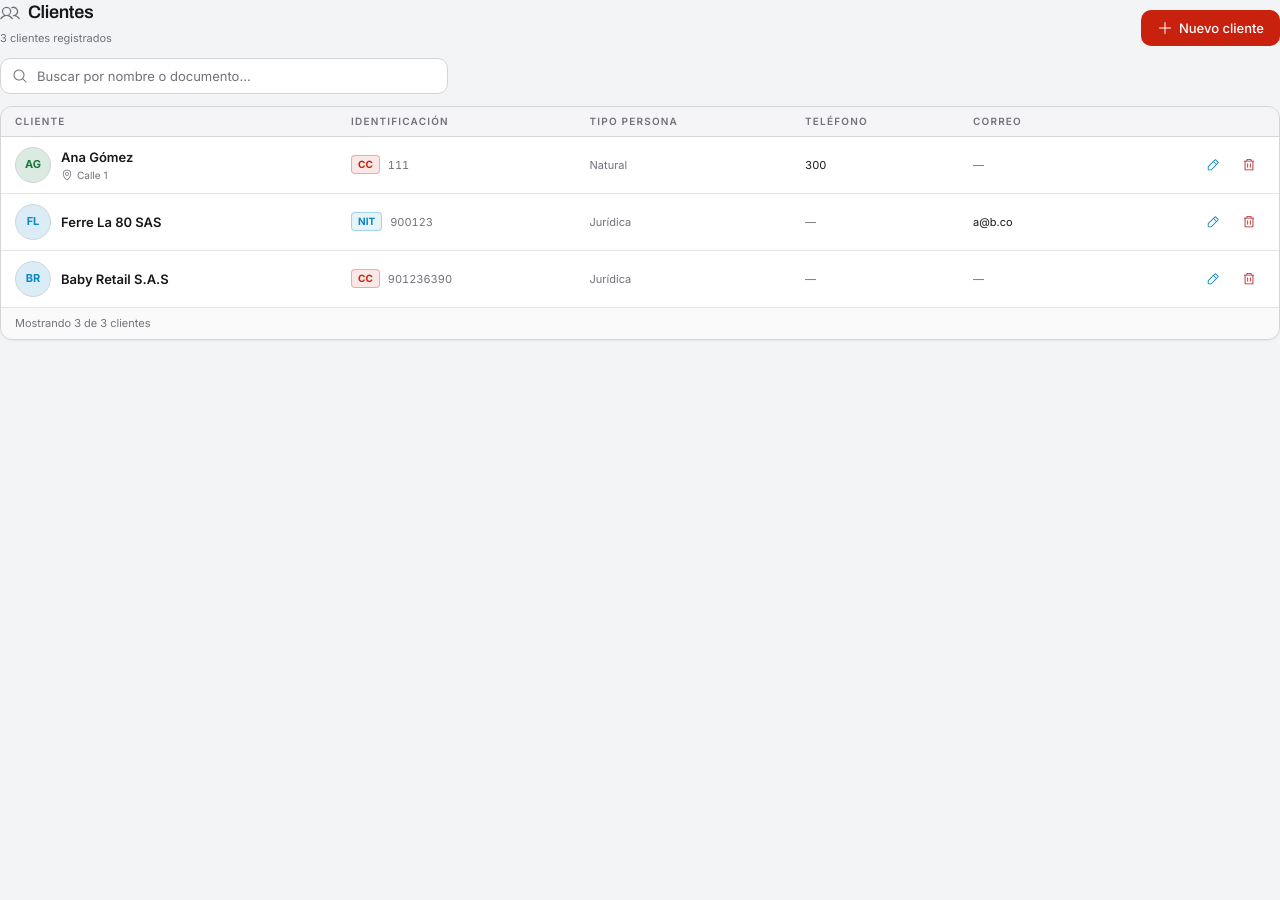
it: TabClientes — modal de alta/edición › sin la feature fiscal no hay ciudad ni régimen
Expected: the text "Ana Gómez" is shown, [61,148,133,167]
Click the button "Nuevo cliente" at (1210, 28), box [1141,10,1279,46]
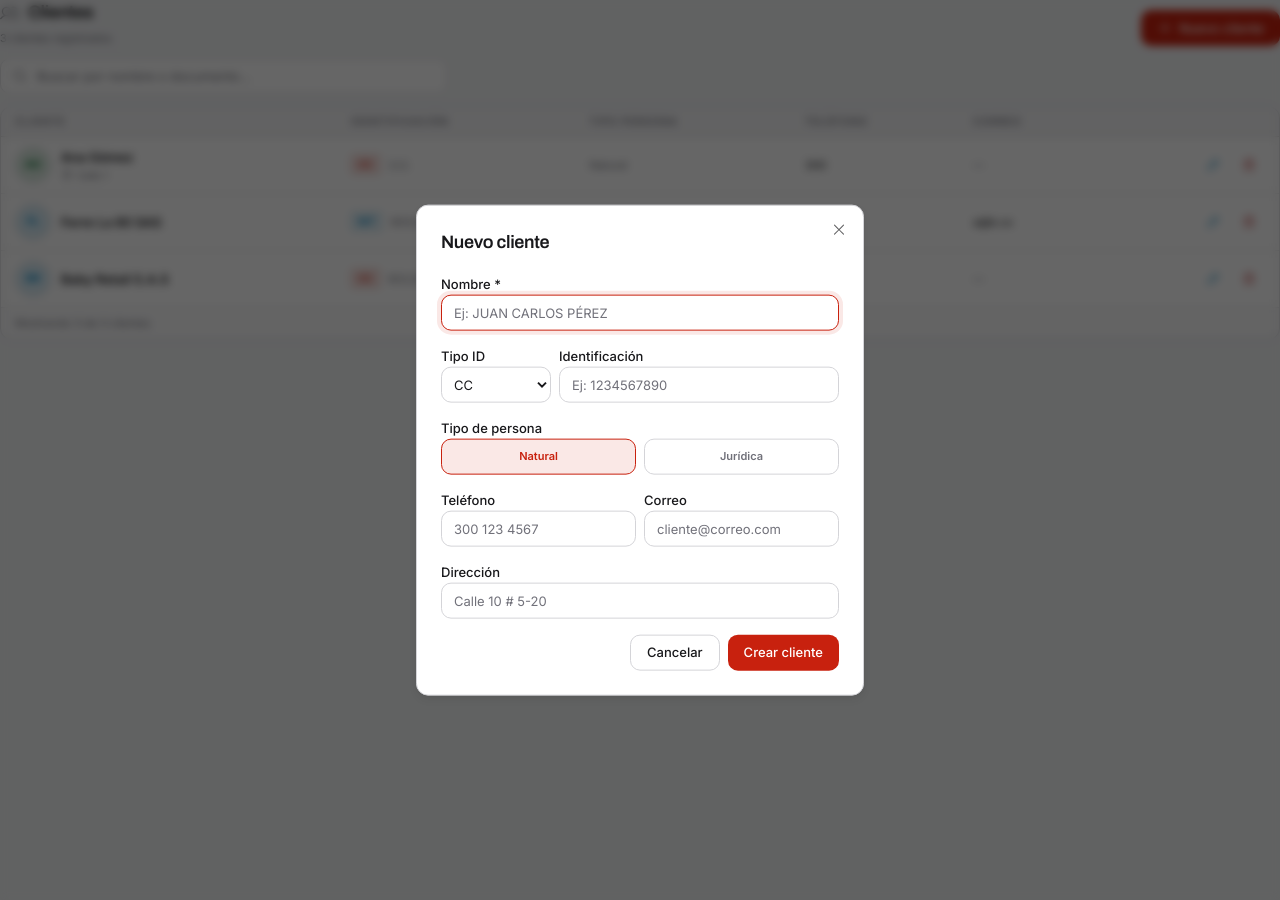
Result: the field labelled "Nombre" is shown at [441,294,839,330]
